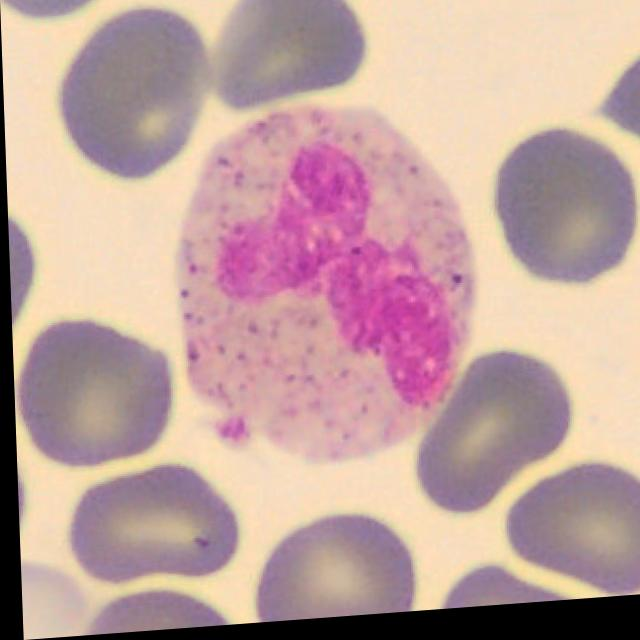Neutrofilo segmentado: (172, 104, 475, 469)
